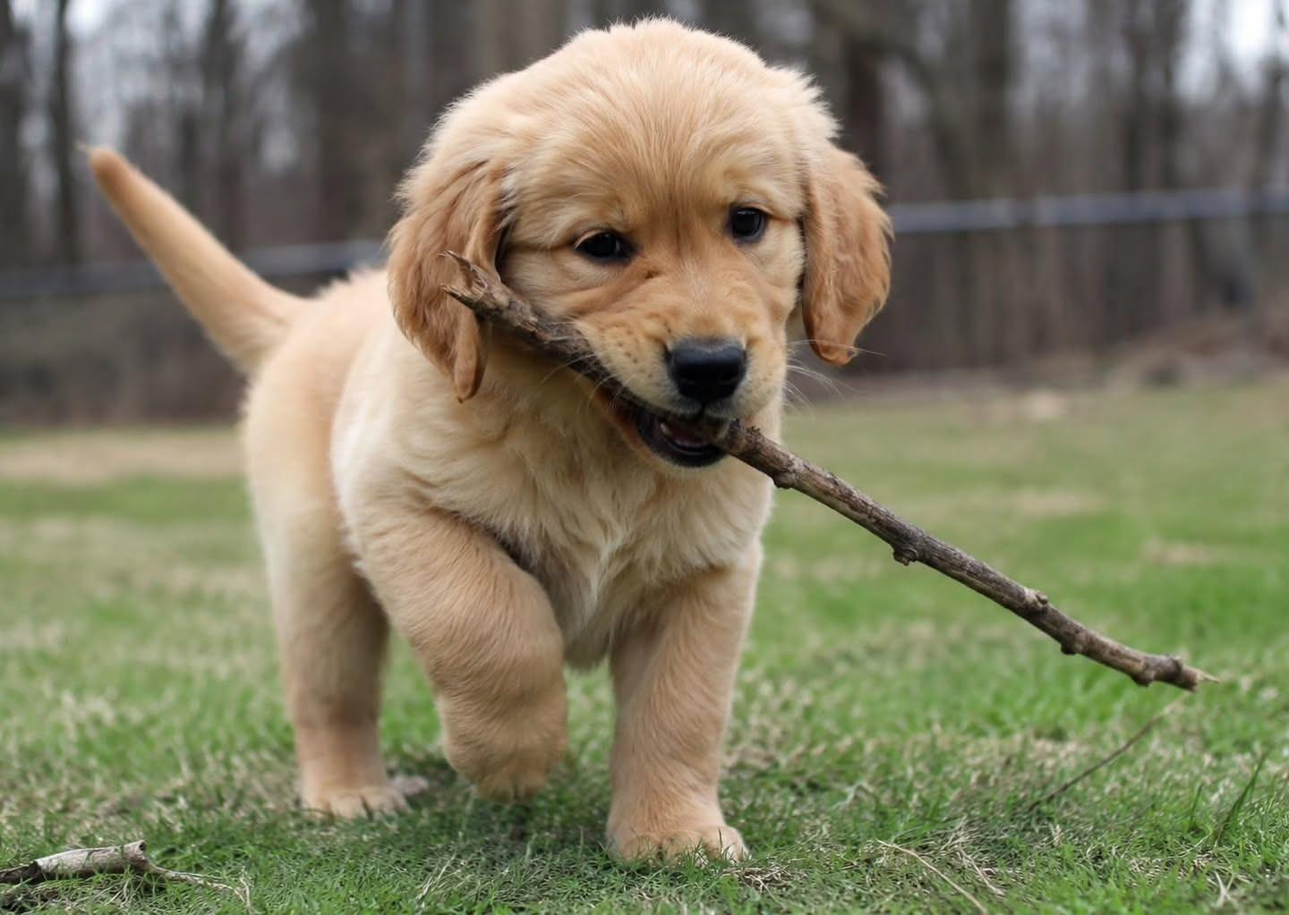puppy-dog: (76, 17, 900, 874)
